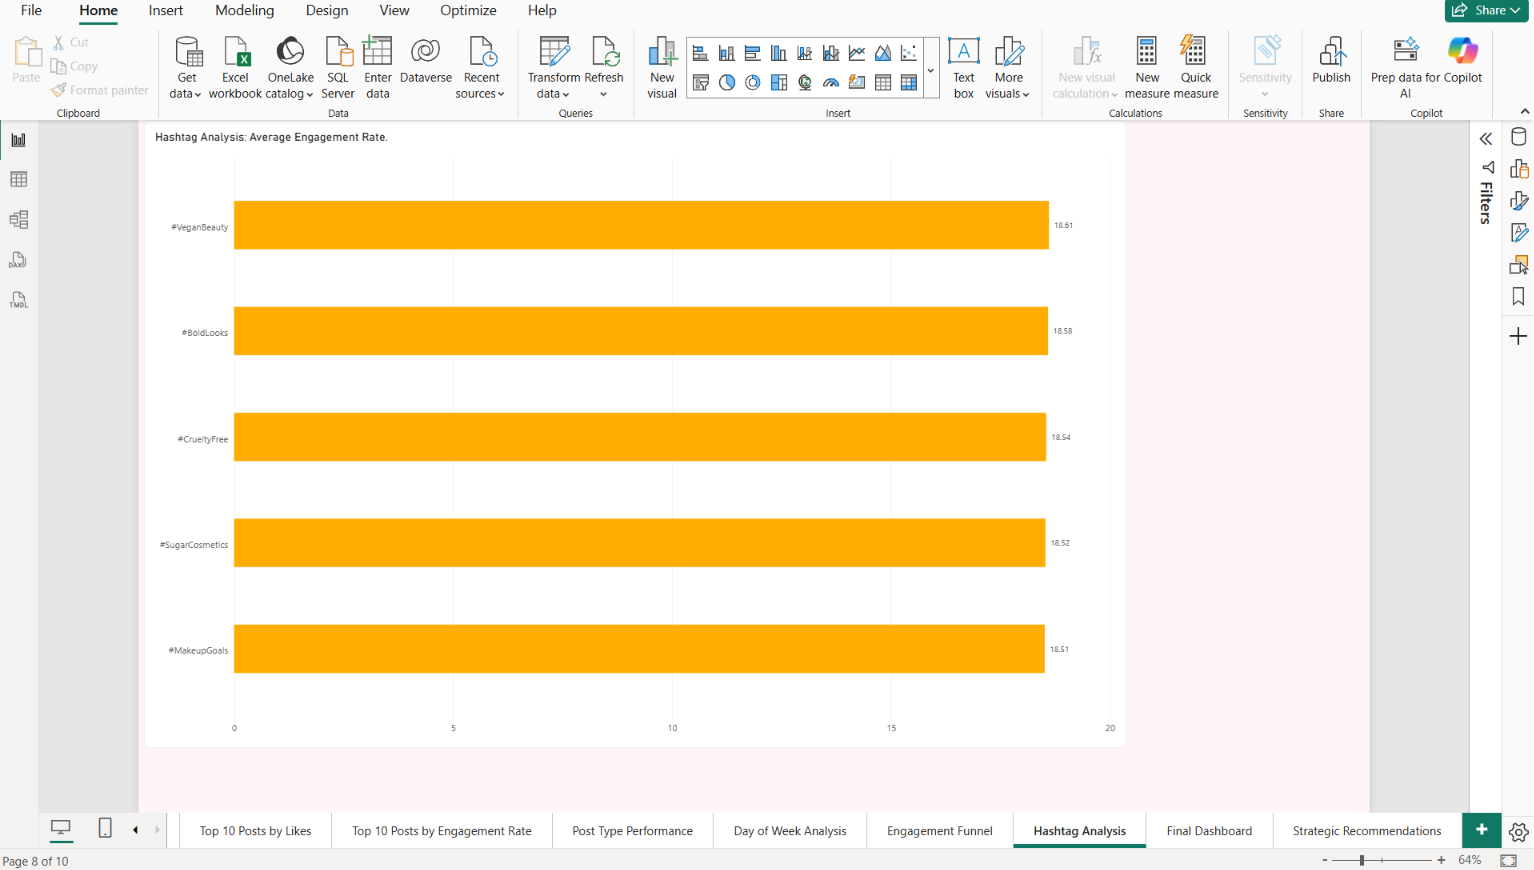

This screenshot's page, from the dashboard's own definition file:
{"tool":"powerbi","page":{"name":"Hashtag Analysis","canvas":[1920,1080],"ordinal":7},"visuals":[{"type":"clusteredBarChart","title":"Hashtag Analysis: Average Engagement Rate.","fields":{"Category":["Hashtag Analysis.Hashtag"],"Y":["Posts.Average Engagement Rate"]},"box":[9.7,0,1530.6,979],"z":0}]}

Visuals, with their boxes on the page's 1920x1080 design canvas (x1, y1, x2, y2). These are canvas units, not pixel positions in the 1534x870 screenshot, which may show the page scaled, cropped or inside an application window:
"Hashtag Analysis: Average Engagement Rate." clusteredBarChart: {"left": 10, "top": 0, "right": 1540, "bottom": 979}
